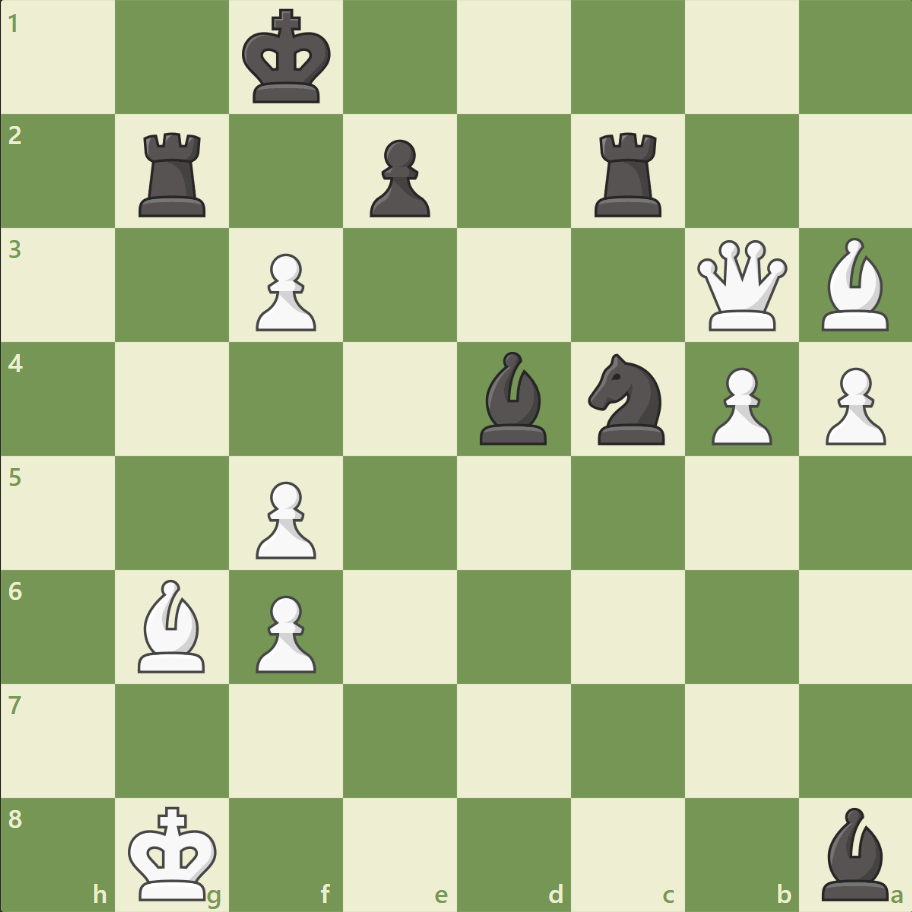B: (812, 233, 896, 336), (131, 574, 215, 676)
K: (124, 798, 224, 906)
P: (247, 586, 322, 677), (247, 473, 322, 564), (701, 359, 776, 450), (247, 246, 322, 337), (815, 359, 889, 450)
Q: (691, 236, 790, 335)
b: (812, 801, 896, 904), (471, 347, 555, 449)
k: (238, 4, 338, 112)
n: (579, 348, 676, 450)
p: (361, 132, 435, 223)
r: (587, 125, 670, 222), (133, 125, 215, 222)
